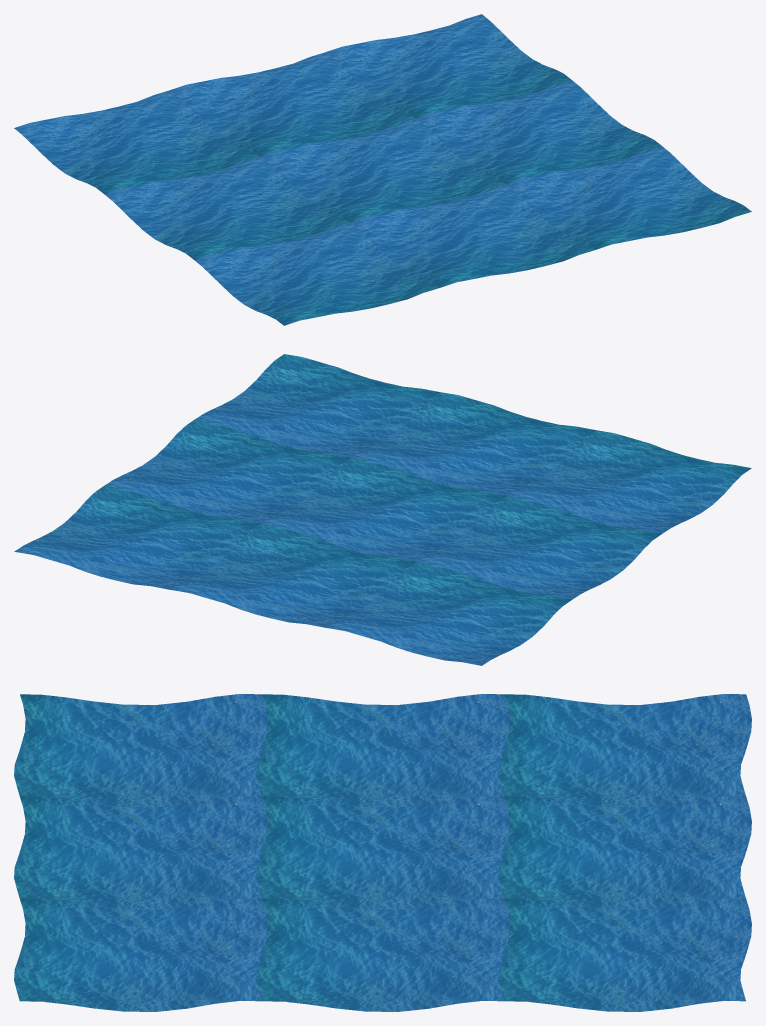
Rendered from ocean_000264.obj.
The picture shows the model from 3 angles, top to bottom: view 1: azimuth 30°, elevation 25°; view 2: azimuth 150°, elevation 25°; view 3: azimuth 270°, elevation 25°; orthographic projection. The views are drawn at different scales.
Visible parts, largest first — view 1: Ocean_Plan.001; view 2: Ocean_Plan.001; view 3: Ocean_Plan.001.
Part boxes in pixels (box(x1,y1,x2,y2)): Ocean_Plan.001: box(14, 14, 751, 325); Ocean_Plan.001: box(14, 354, 751, 665); Ocean_Plan.001: box(14, 694, 751, 1011).
Size of the model in its own units: 109246 by 2476 by 110708.
Materials: 1 (1 with a texture image).
